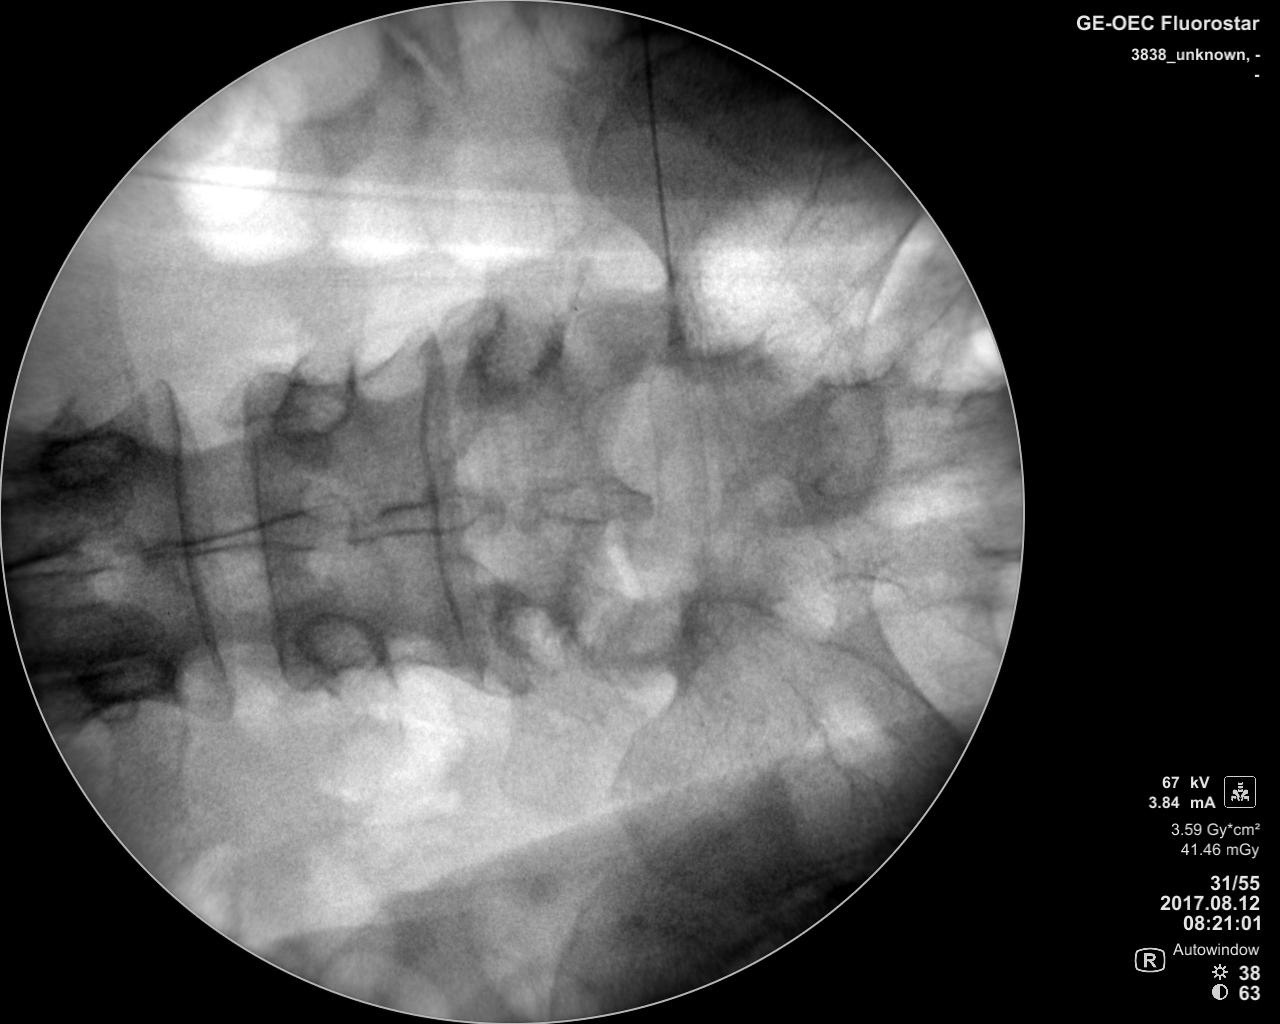eyes: (465, 311, 571, 396), (71, 641, 180, 714), (40, 422, 140, 493), (266, 363, 362, 436), (485, 592, 578, 667), (667, 588, 769, 655), (292, 610, 389, 678), (665, 288, 760, 354)
line: (152, 371, 243, 723), (410, 311, 493, 691), (224, 362, 299, 696), (673, 359, 715, 591)
nose: (137, 506, 329, 563), (344, 489, 495, 540), (8, 529, 126, 587), (522, 473, 656, 525)
